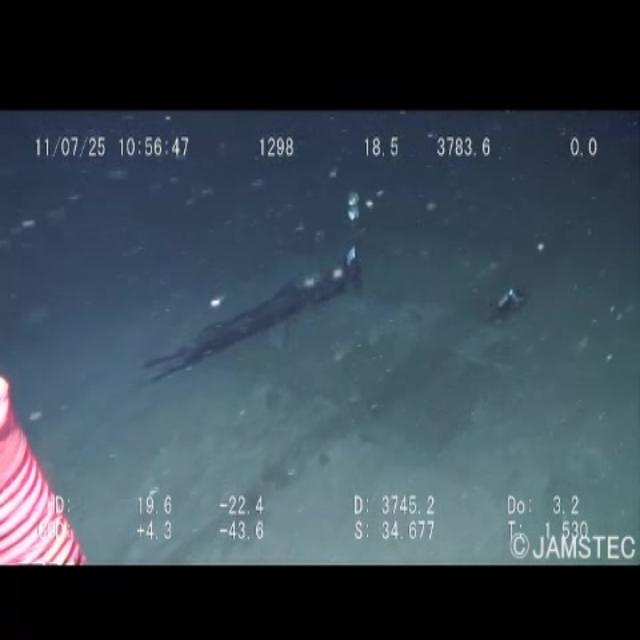Metal: (126, 246, 381, 380)
